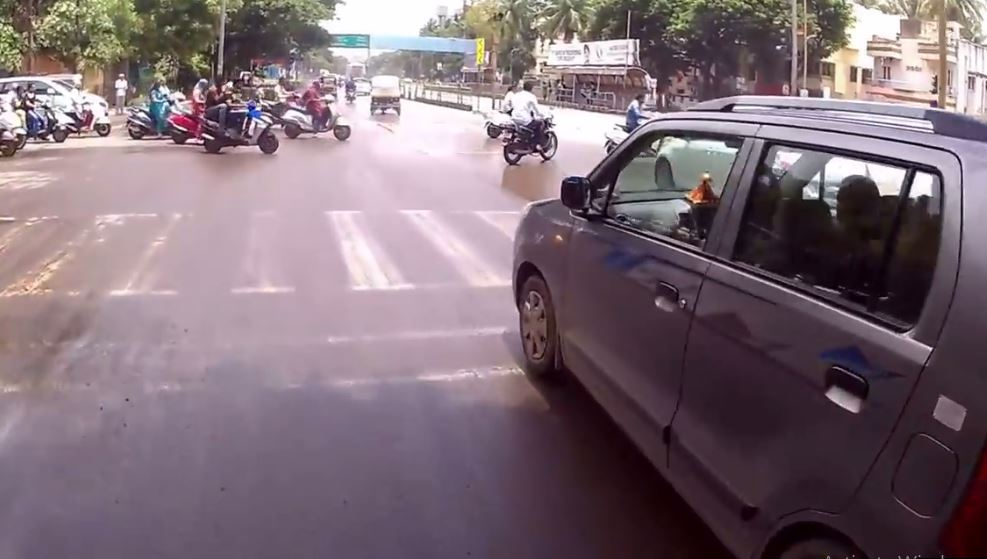autorickshaw: (365, 64, 411, 131)
car: (503, 84, 983, 559)
